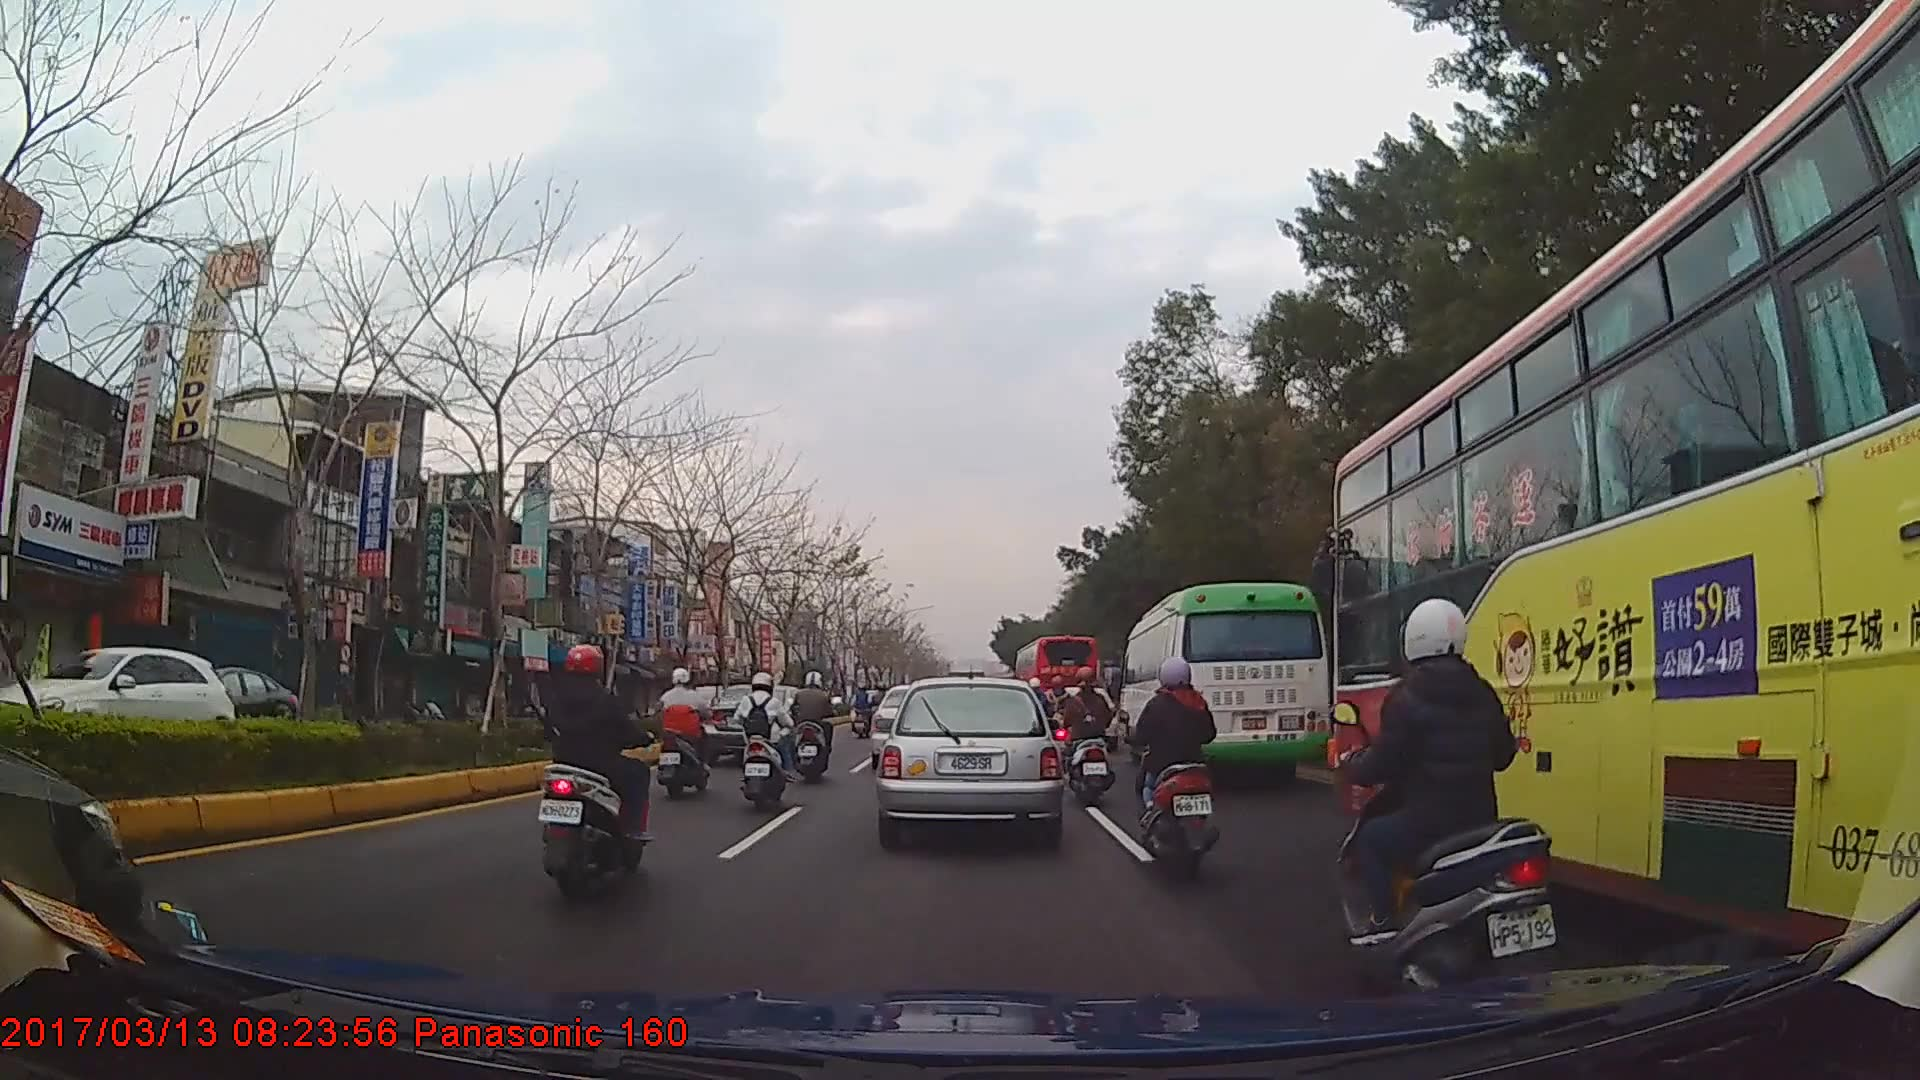rider: (1334, 597, 1569, 980), (533, 641, 649, 901), (1131, 652, 1228, 883), (654, 666, 716, 800), (734, 670, 793, 810), (1061, 666, 1113, 794), (791, 670, 837, 782), (853, 682, 874, 721)
vehicle: (1329, 0, 1920, 985), (1118, 582, 1330, 779), (876, 675, 1062, 841), (0, 640, 240, 752), (152, 663, 299, 734), (1014, 629, 1102, 735)
